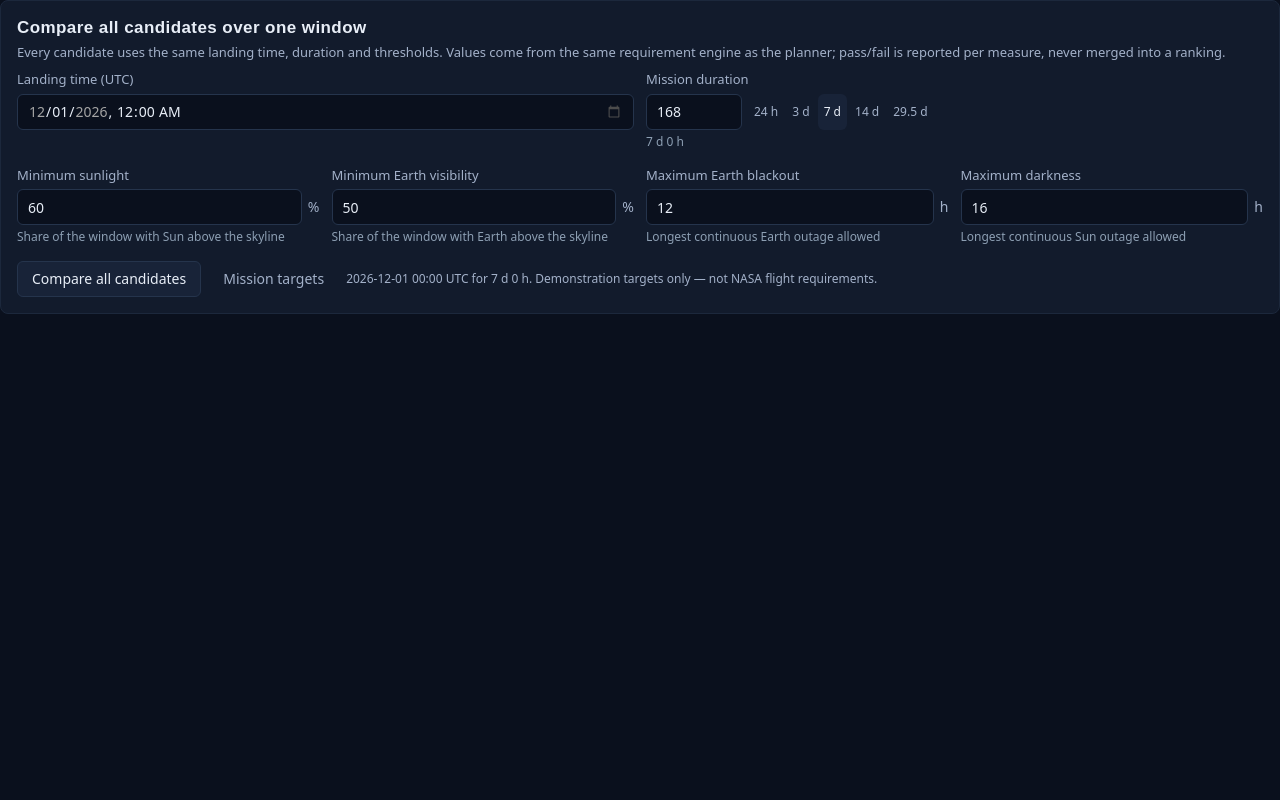
CandidateComparison › reports a best-per-measure summary without inventing an overall winner
Click the button "Compare all candidates": [109, 279] box [17,261,201,297]
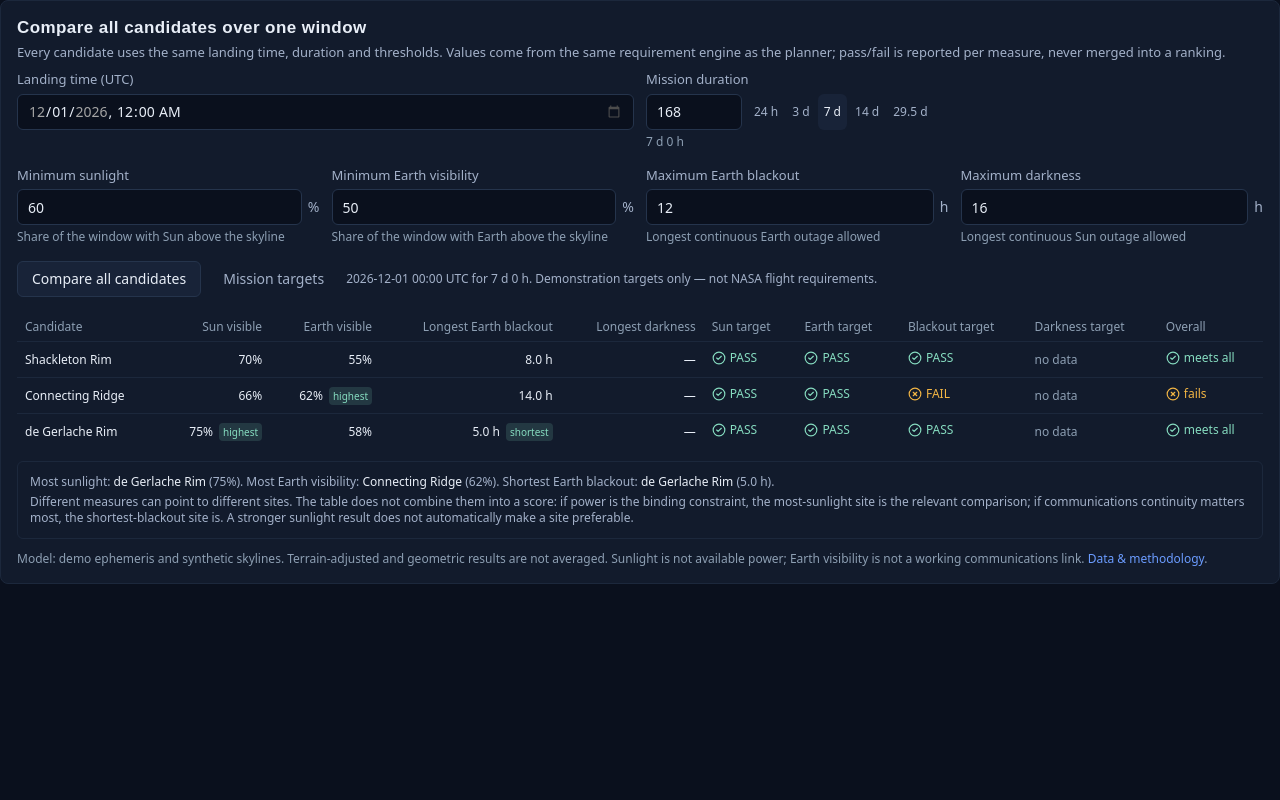
Expected: the text "Most sunlight:" is shown, [30,473,114,490]
Expected: the text "Most sunlight:" shows "de Gerlache Rim (75%)", [30,473,774,490]
Expected: the text "Most Earth visibility:" shows "Connecting Ridge (62%)", [30,473,774,490]
